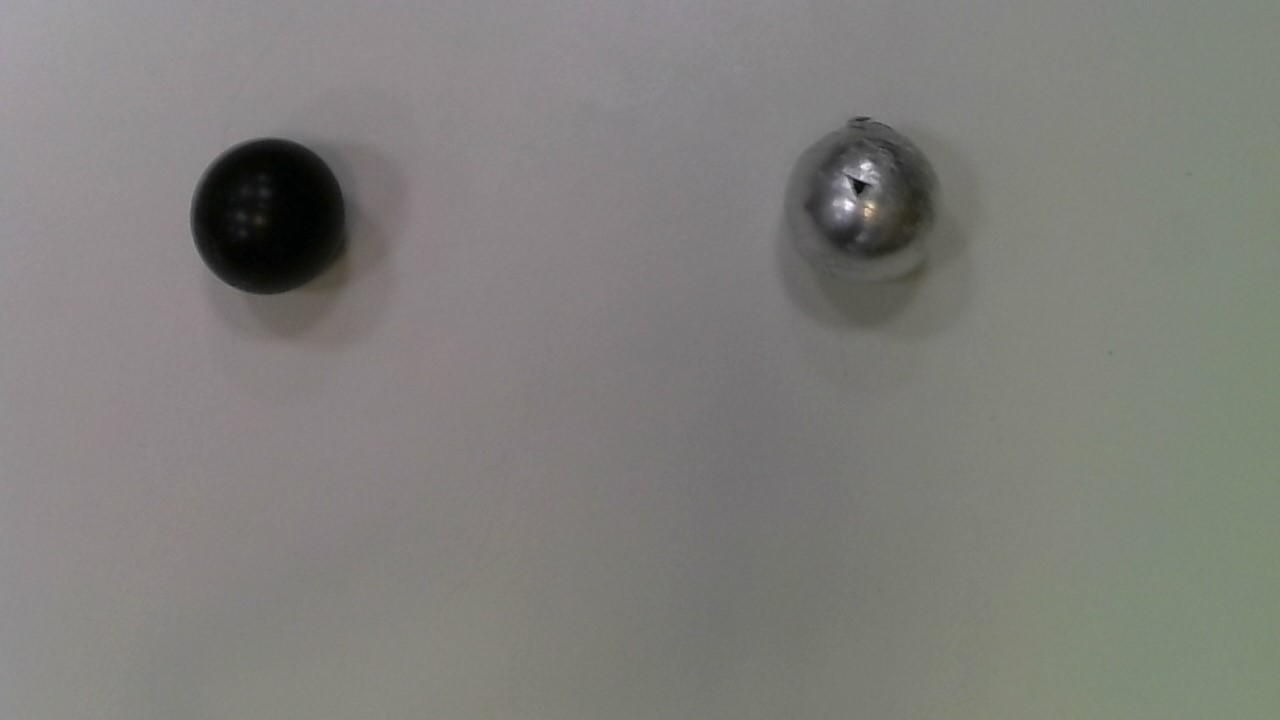black_ball: (193, 132, 351, 297)
silver_ball: (777, 113, 945, 289)
